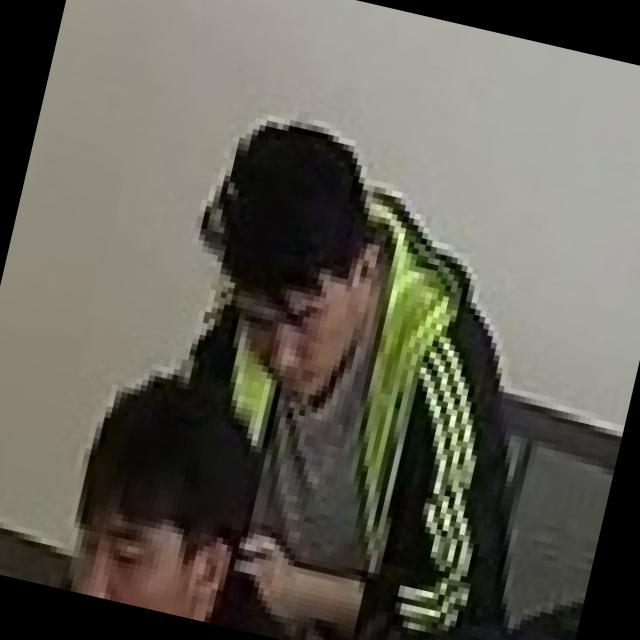listen: (14, 343, 335, 640)
trance: (134, 108, 581, 640)
